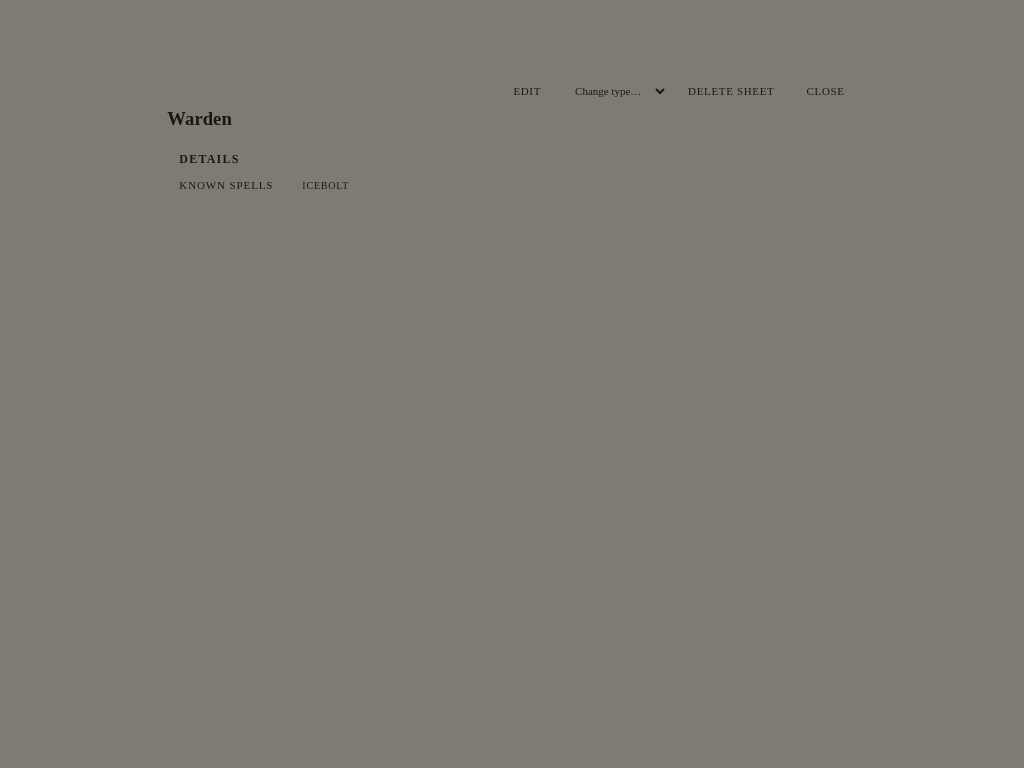
Test: view mode renders module-content ref chips that open a preview instead
Click the button "icebolt" at [329, 186], box [299, 177, 359, 194]
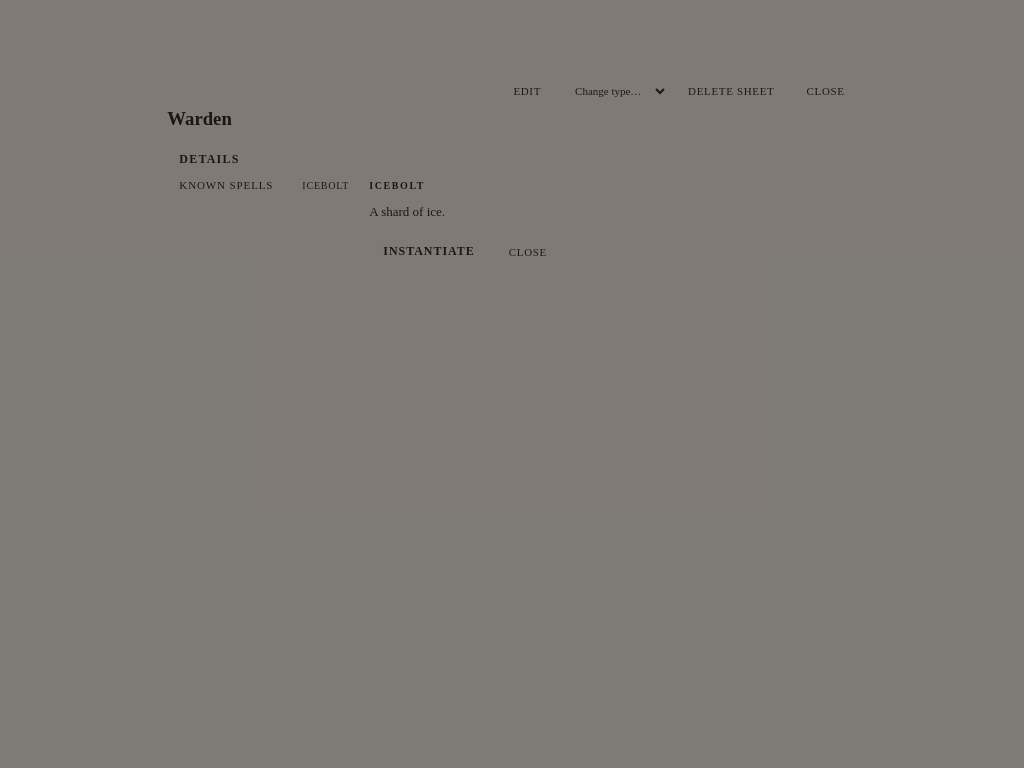
Now the text "A shard of ice." is shown, box [369, 204, 445, 219]
